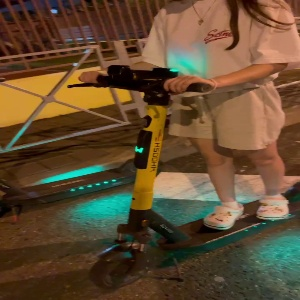human on a scooter: (67, 1, 300, 292)
